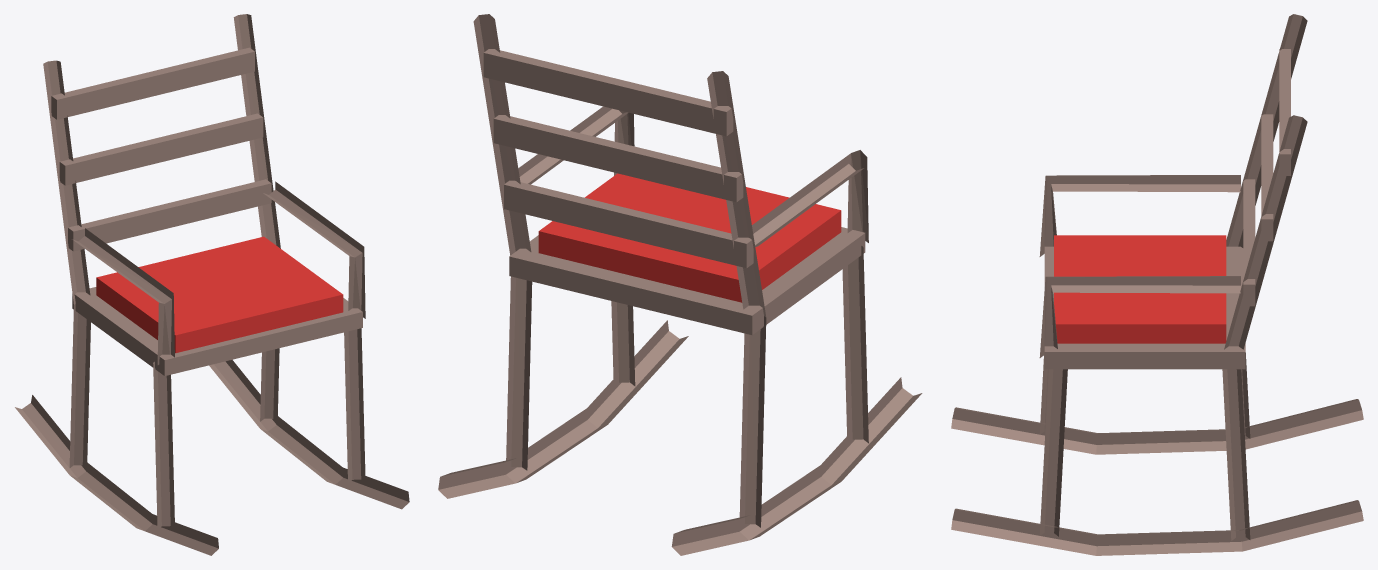
The model's file is gungstol.glb.
The picture shows the model from 3 angles, left to right: view 1: azimuth 30°, elevation 25°; view 2: azimuth 150°, elevation 25°; view 3: azimuth 270°, elevation 25°; orthographic projection. The views are drawn at different scales.
Parts seen in each view (by area): view 1: gungstol; view 2: gungstol; view 3: gungstol.
Part boxes in pixels (<box>): gungstol: <box>15,14,409,555</box>; gungstol: <box>438,14,922,555</box>; gungstol: <box>951,14,1363,555</box>.
Size of the model in its own units: 0.5433 by 1.01 by 0.8617.
